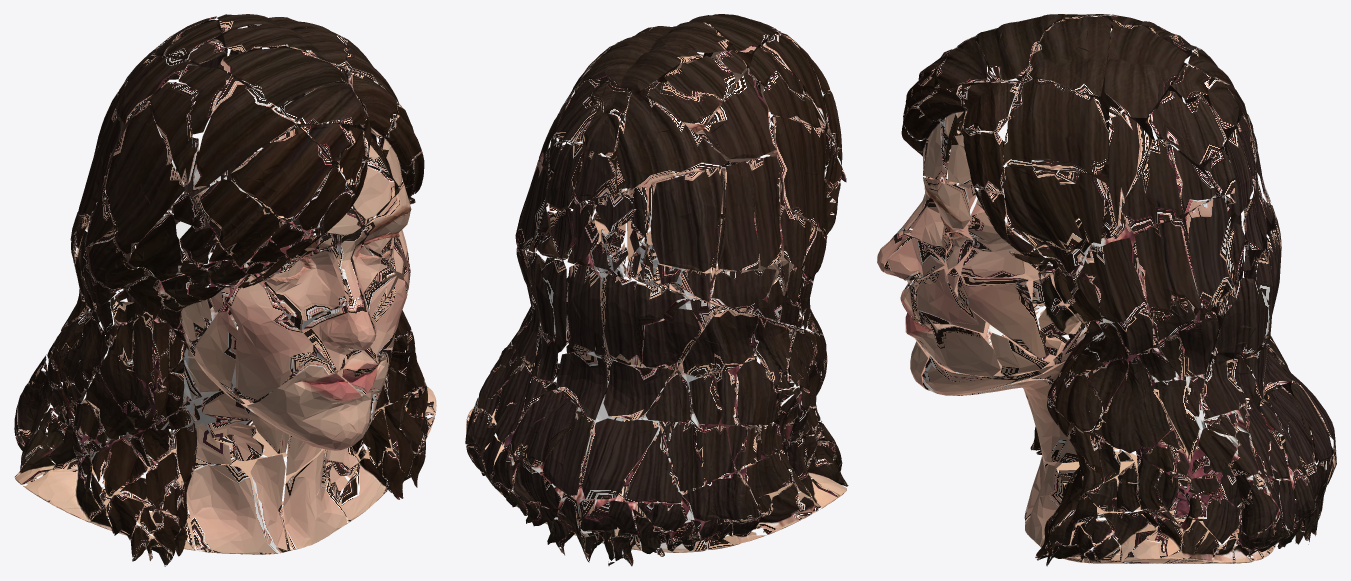
The model's file is dorso.glb.
The picture shows the model from 3 angles, left to right: view 1: azimuth 30°, elevation 25°; view 2: azimuth 150°, elevation 25°; view 3: azimuth 270°, elevation 25°; orthographic projection. The views are drawn at different scales.
Parts seen in each view (by area): view 1: cranio; view 2: cranio; view 3: cranio.
Part boxes in pixels (x1=…): cranio: x1=14, y1=14, x2=436, y2=566; cranio: x1=465, y1=14, x2=848, y2=566; cranio: x1=877, y1=14, x2=1336, y2=566.
Bounding box in the file's own units: 1.61 × 1.9 × 1.59.
1 material, 1 textured.
